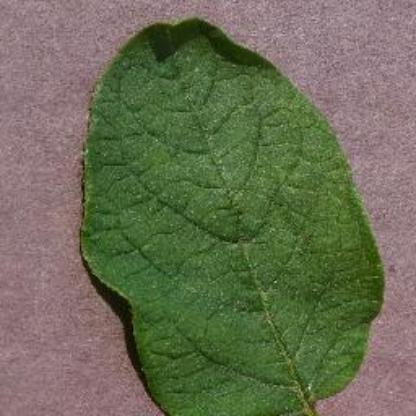Healthy-plant: (72, 13, 396, 406)
